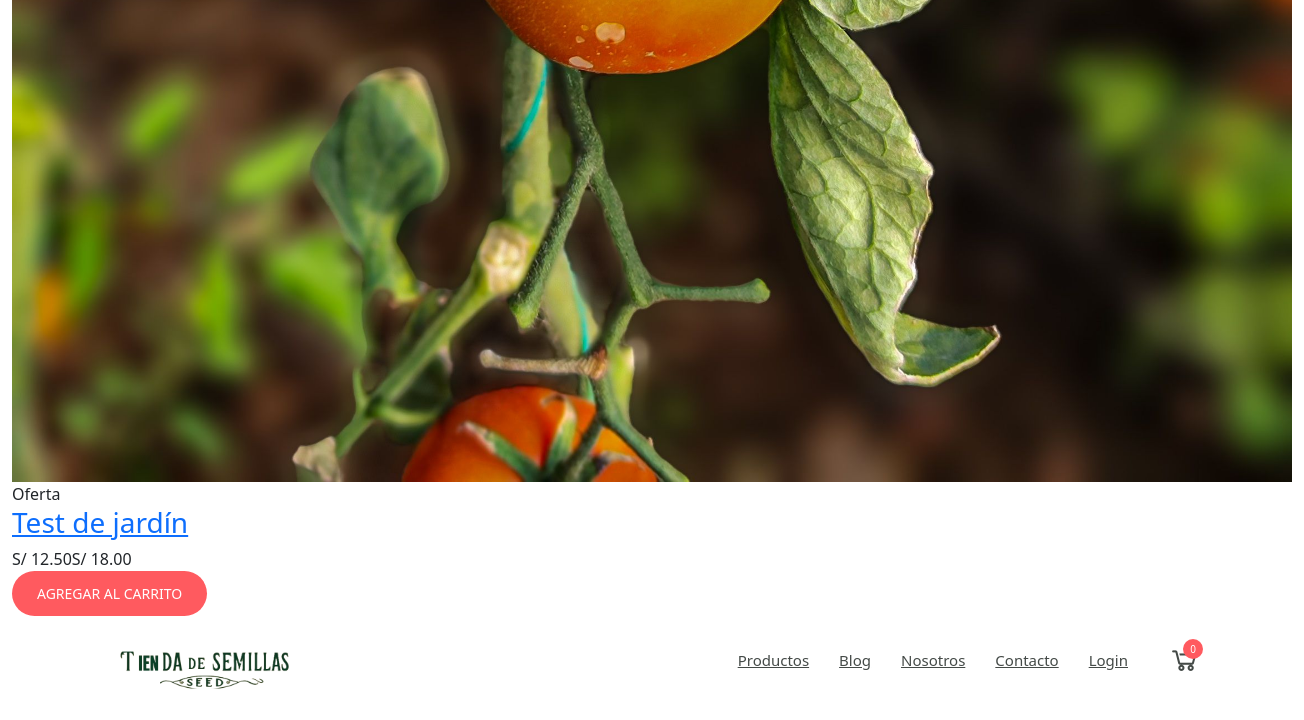
Test: Componentes de tienda › 29. Agregar actualiza contador y almacenamiento
The image size is (1304, 720).
(page scrolled)
Click the button with class "hm-btn": (110, 594) top-left (12, 571), bottom-right (207, 616)
(page scrolled)
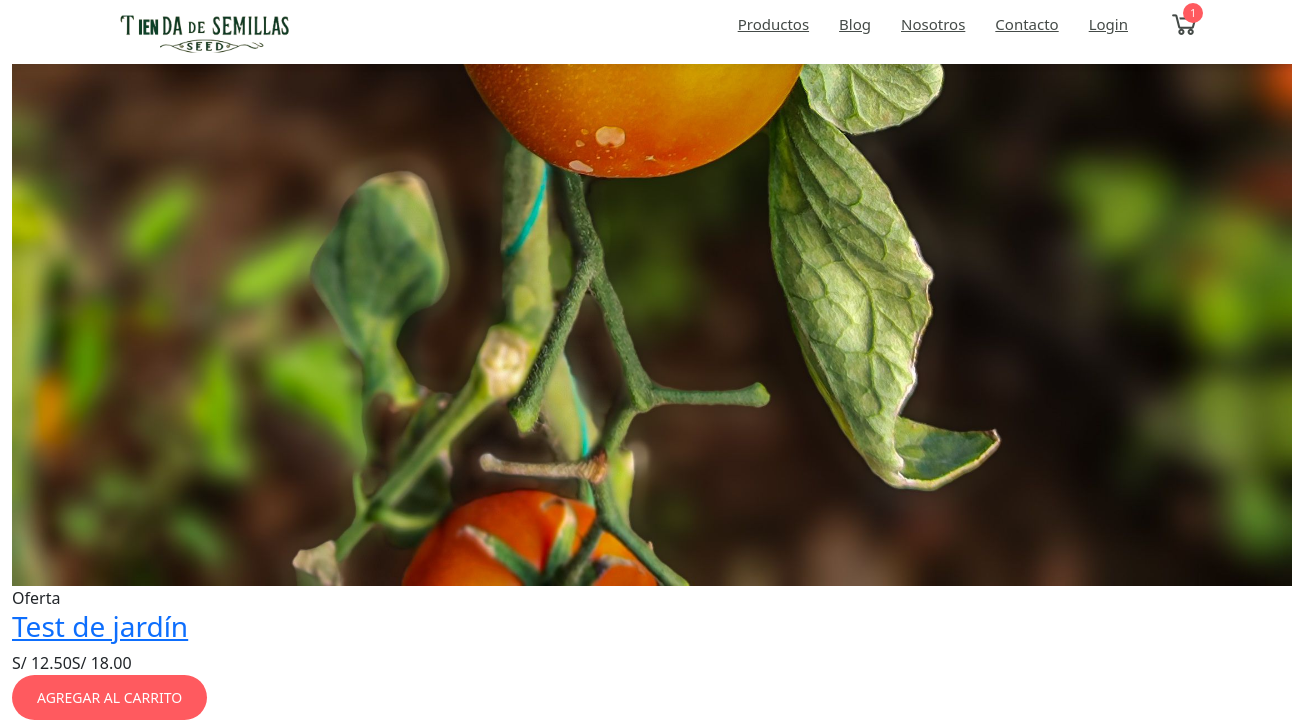
Check: the text with id "contadorCarrito" reads "1", box top-left (1190, 6), bottom-right (1196, 20)
